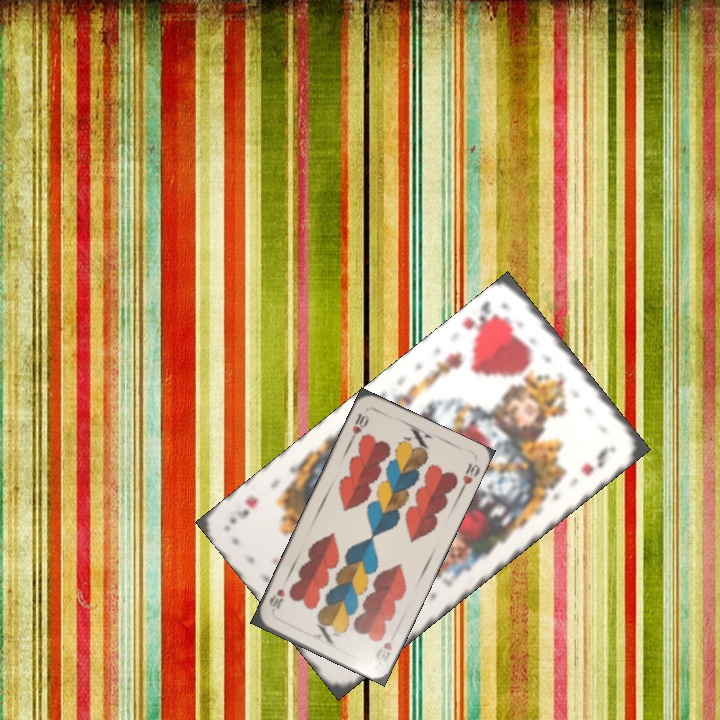H10: (346, 409, 372, 444), (372, 637, 396, 665)
HK: (458, 296, 504, 344)
